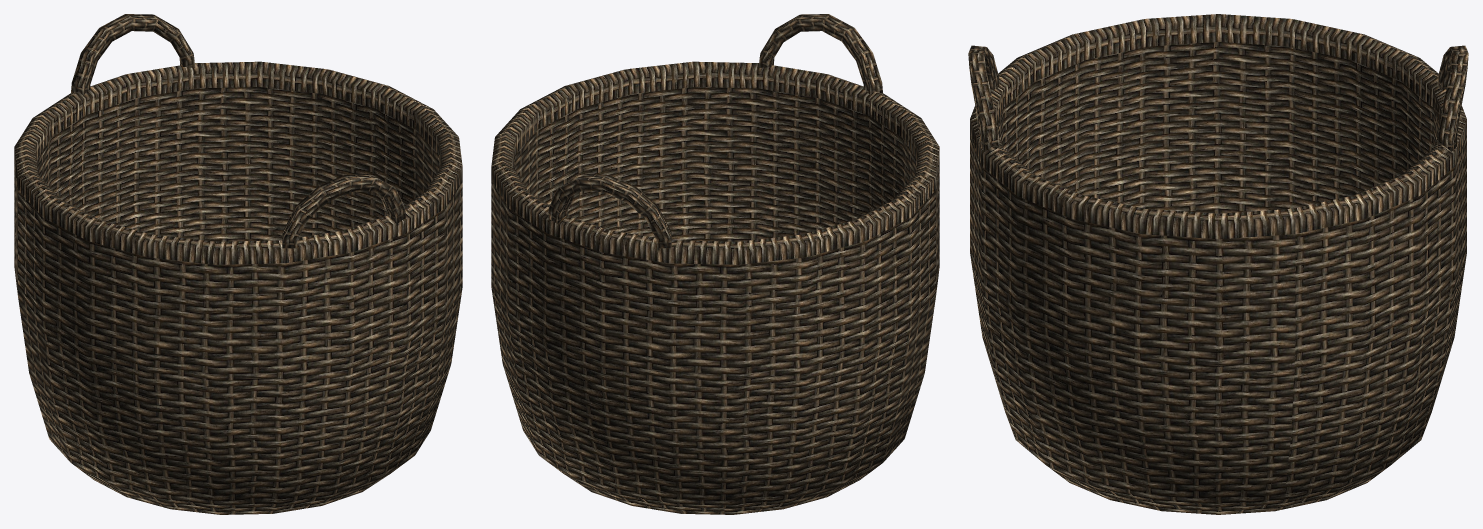
The model's file is basket1.fbx.
The picture shows the model from 3 angles, left to right: view 1: azimuth 30°, elevation 25°; view 2: azimuth 150°, elevation 25°; view 3: azimuth 270°, elevation 25°; orthographic projection. The views are drawn at different scales.
Parts seen in each view (by area): view 1: polySurface1281; view 2: polySurface1281; view 3: polySurface1281.
Part boxes in pixels (x1,y1,x2,y2): polySurface1281: (14,14,462,514); polySurface1281: (491,14,939,514); polySurface1281: (968,14,1468,514).
Bounding box in the file's own units: 0.7956 × 0.6773 × 0.8005.
